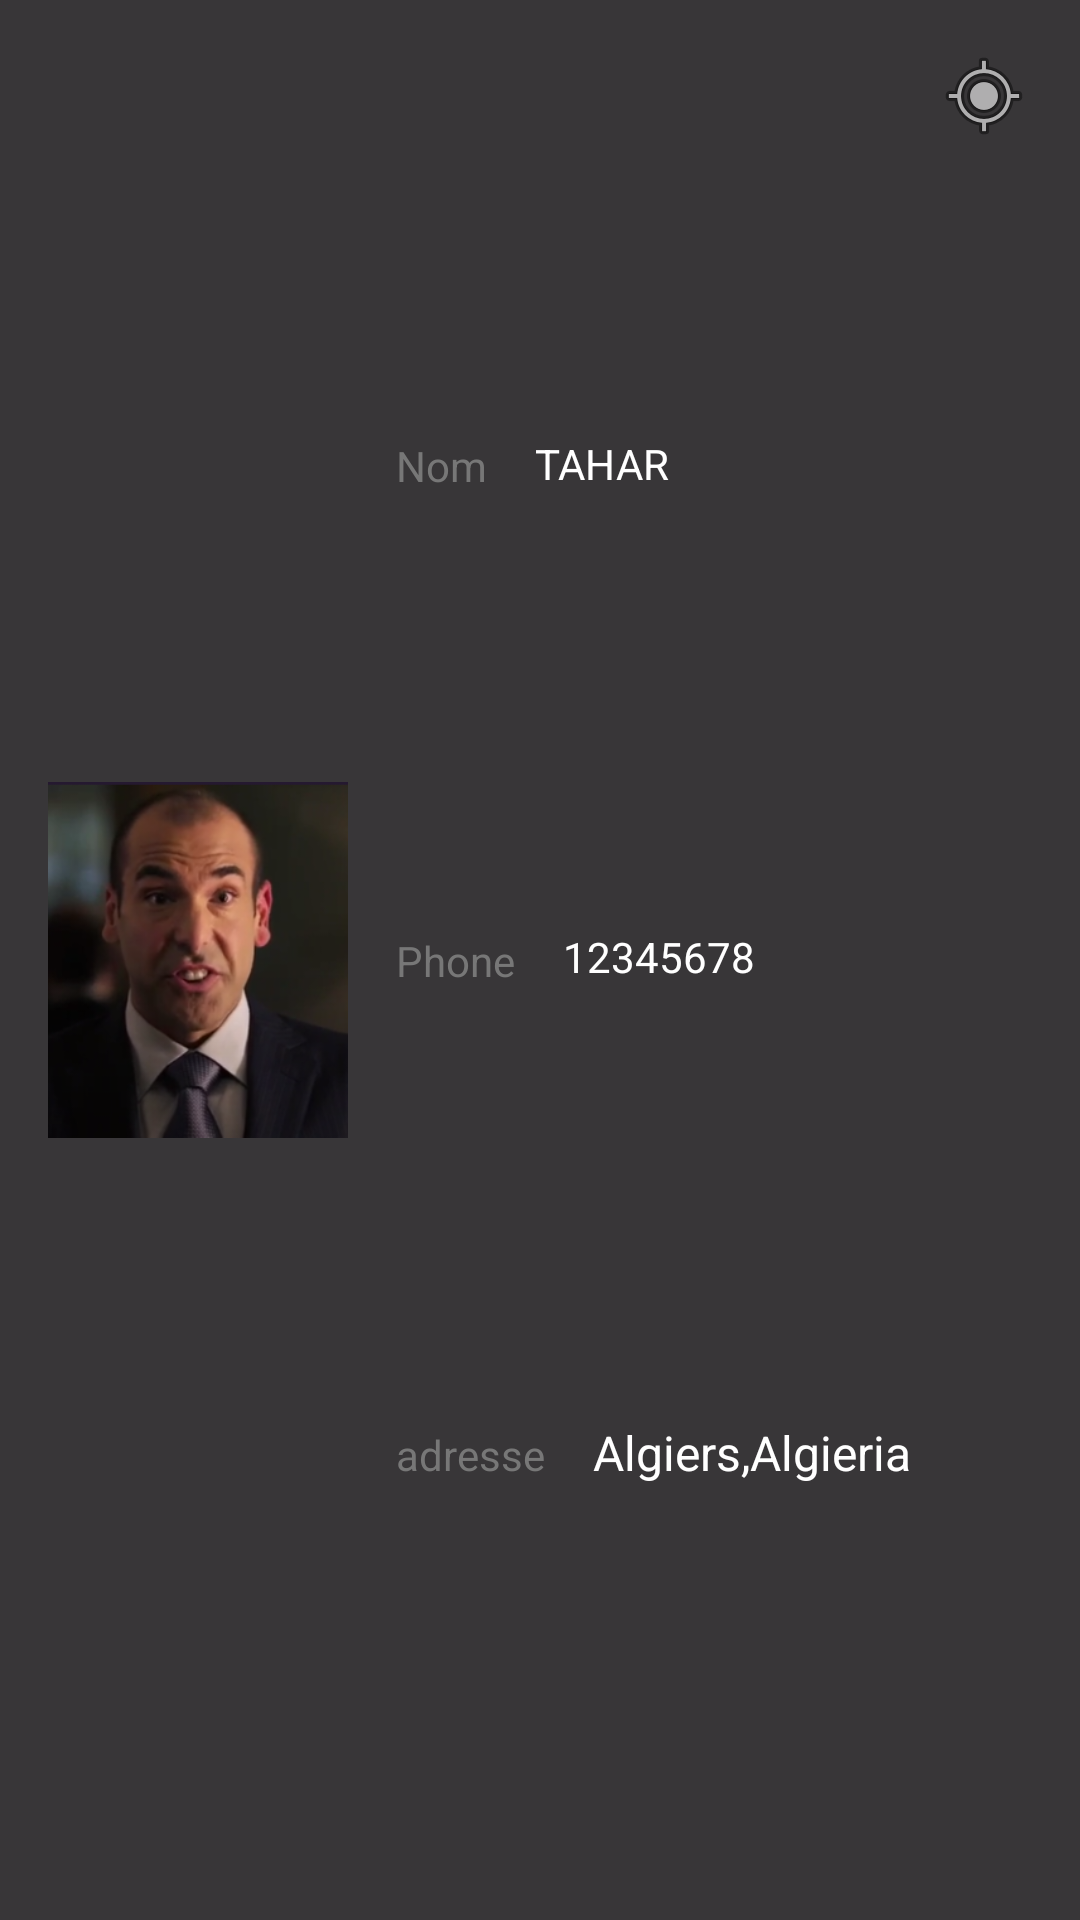

Where icons sit on this 1080x1920 app screen, as (x1, y1, x2, y2):
mylocation: (947, 59, 1021, 133)
